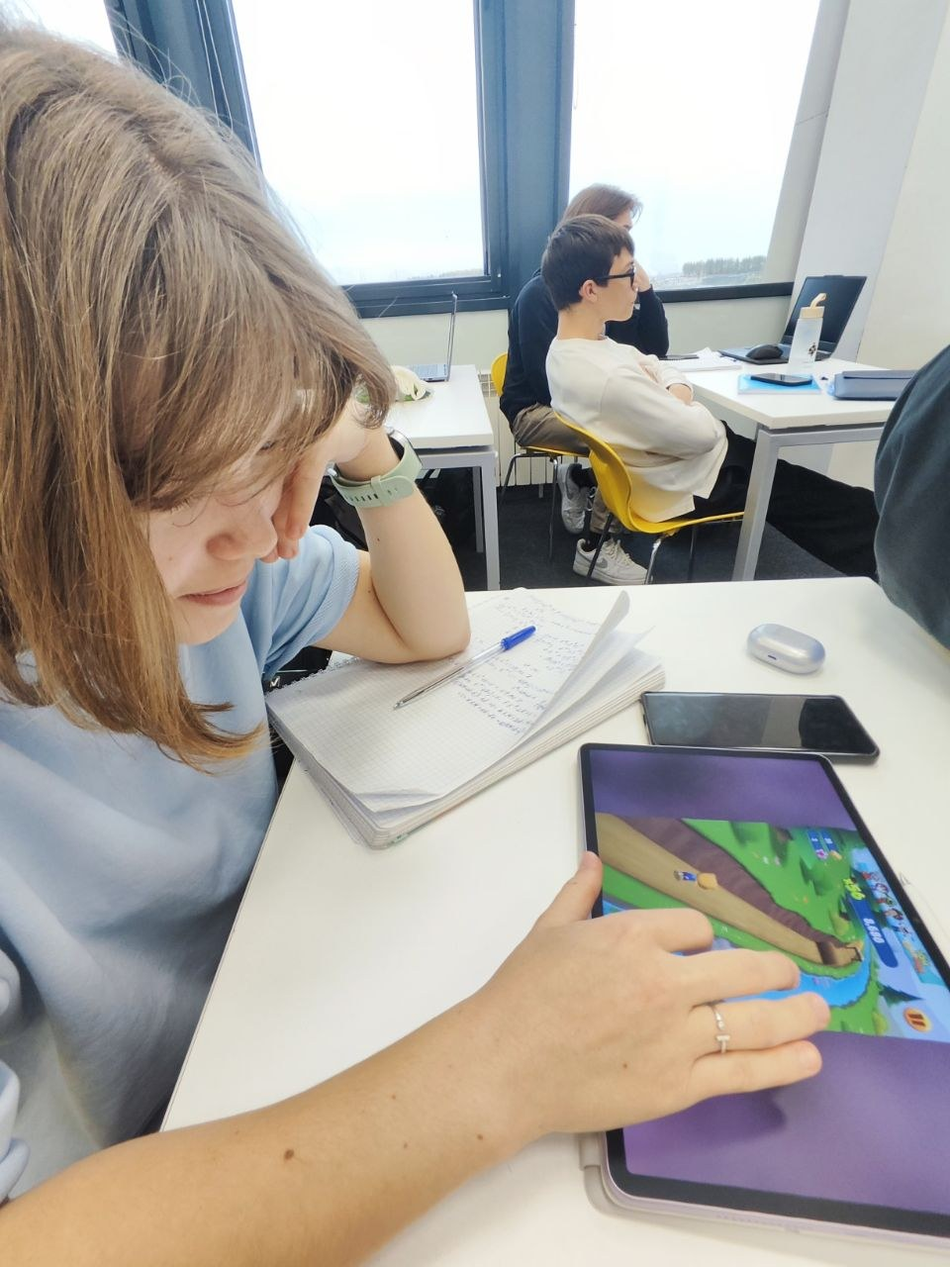cell phone: (640, 690, 880, 764), (750, 369, 814, 390)
laptop: (719, 274, 866, 364), (410, 291, 457, 381)
